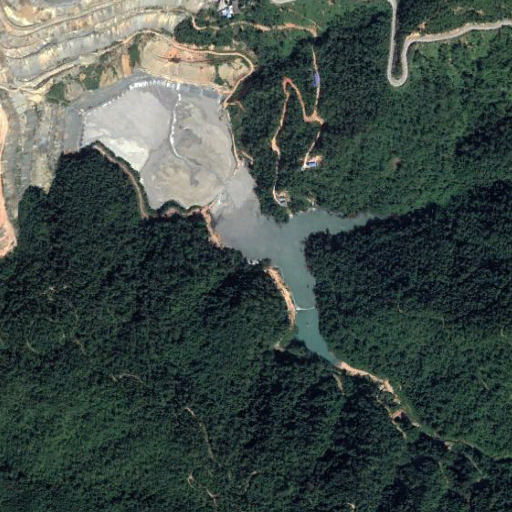tp: (63, 69, 375, 370)
